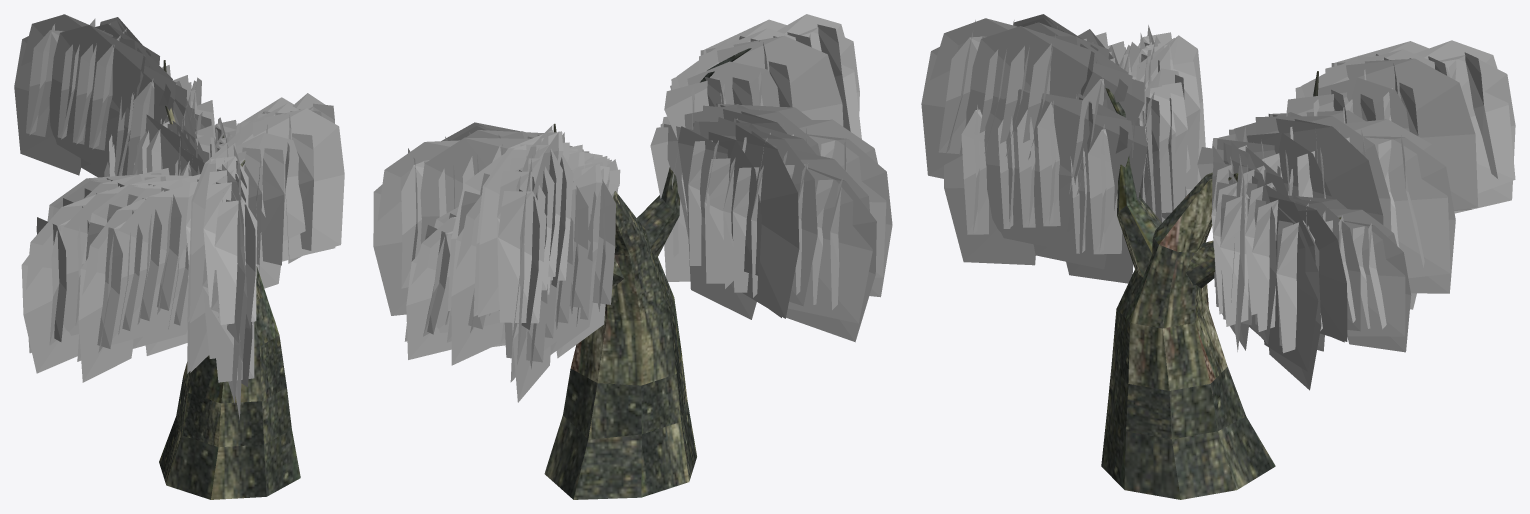
File: Willow_001.fbx
3 views of the same model, side by side, from view 1: azimuth 30°, elevation 25°; view 2: azimuth 150°, elevation 25°; view 3: azimuth 270°, elevation 25° (orthographic). The views are drawn at different scales.
Parts seen in each view (by area): view 1: Tree_Saule_Leaves1, Tree_Saule_Trunk1; view 2: Tree_Saule_Leaves1, Tree_Saule_Trunk1; view 3: Tree_Saule_Leaves1, Tree_Saule_Trunk1.
Part boxes in pixels (x1=…): Tree_Saule_Leaves1: x1=14, y1=14, x2=344, y2=419; Tree_Saule_Trunk1: x1=159, y1=60, x2=300, y2=499; Tree_Saule_Leaves1: x1=373, y1=14, x2=892, y2=402; Tree_Saule_Trunk1: x1=544, y1=48, x2=751, y2=499; Tree_Saule_Leaves1: x1=921, y1=14, x2=1515, y2=390; Tree_Saule_Trunk1: x1=1063, y1=31, x2=1341, y2=499.
Size of the model in its own units: 2094 by 1934 by 2558.
